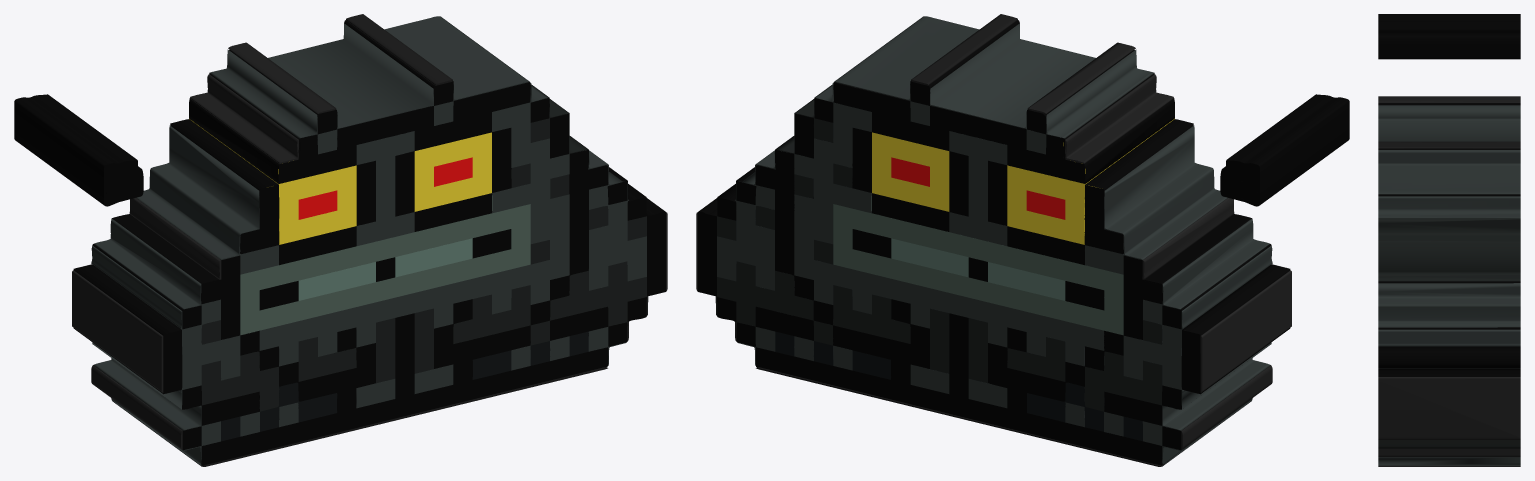
File: Toadz_5513.glb
The picture shows the model from 3 angles, left to right: view 1: azimuth 30°, elevation 25°; view 2: azimuth 150°, elevation 25°; view 3: azimuth 270°, elevation 25°; orthographic projection. The views are drawn at different scales.
Visible parts, largest first — view 1: Curve; view 2: Curve; view 3: Curve.
Boxes of the visible parts, bbox=[...] form: Curve: bbox=[14, 14, 667, 466]; Curve: bbox=[696, 14, 1349, 466]; Curve: bbox=[1378, 14, 1520, 466].
Bounding box in the file's own units: 3.62 × 2.01 × 1.
